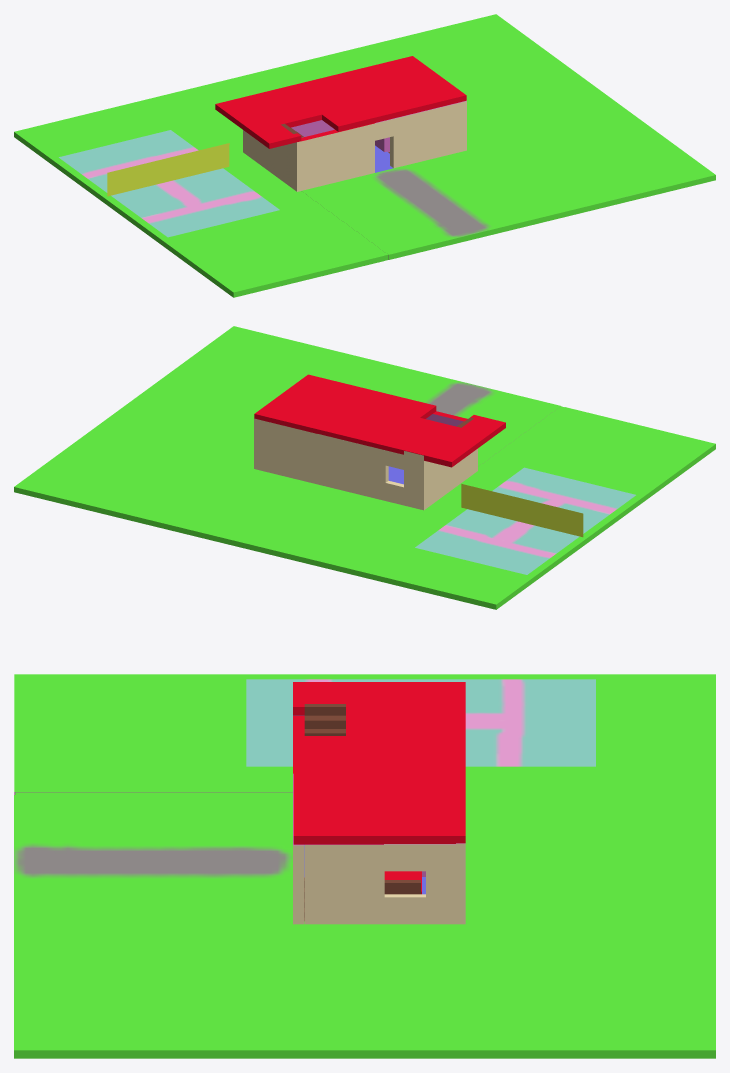
File: house.obj
3 views of the same model, one above another, from view 1: azimuth 30°, elevation 25°; view 2: azimuth 150°, elevation 25°; view 3: azimuth 270°, elevation 25° (orthographic). The views are drawn at different scales.
Parts seen in each view (by area): view 1: Cube_Cube.001; view 2: Cube_Cube.001; view 3: Cube_Cube.001.
Boxes of the visible parts, <box> form: Cube_Cube.001: <box>14,14,715,297</box>; Cube_Cube.001: <box>14,326,715,609</box>; Cube_Cube.001: <box>14,674,715,1058</box>.
Bounding box in the file's own units: 42.42 × 8.36 × 33.48.
